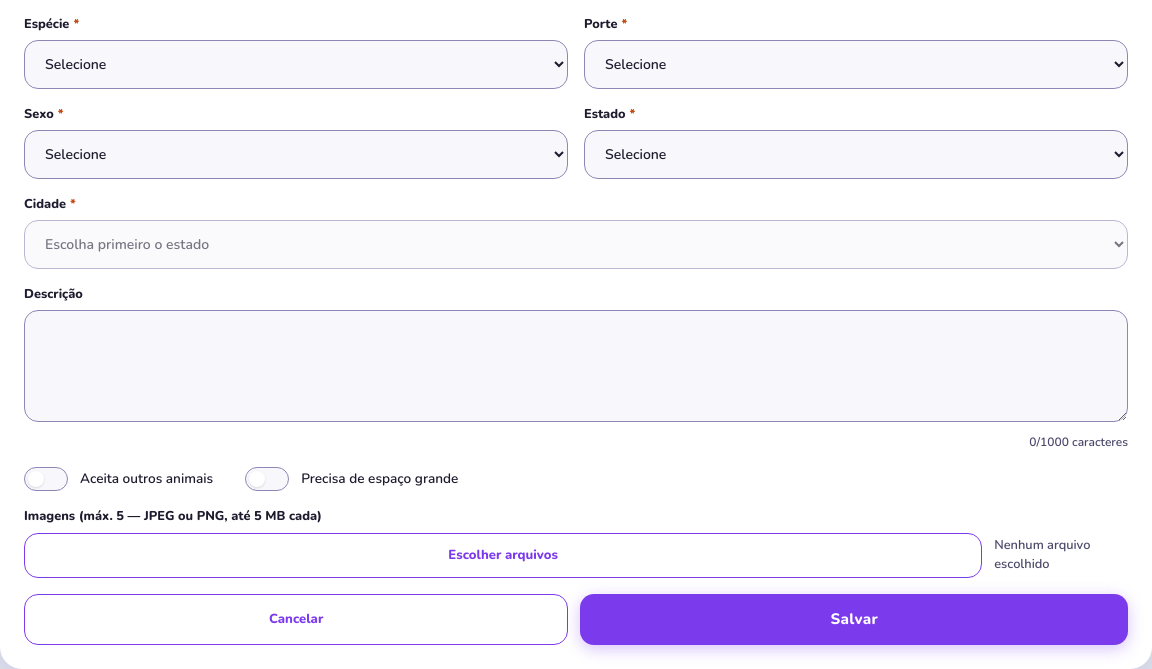
it: modo de cadastro › CT-09/CA-12: formulário vazio sinaliza TODOS os obrigatórios de uma vez, foca o primeiro e NÃO envia
This screenshot has width=1152, height=669.
(page scrolled)
Click the button "Salvar" at coordinates (854, 620), box [580,594,1128,645]
(page scrolled)
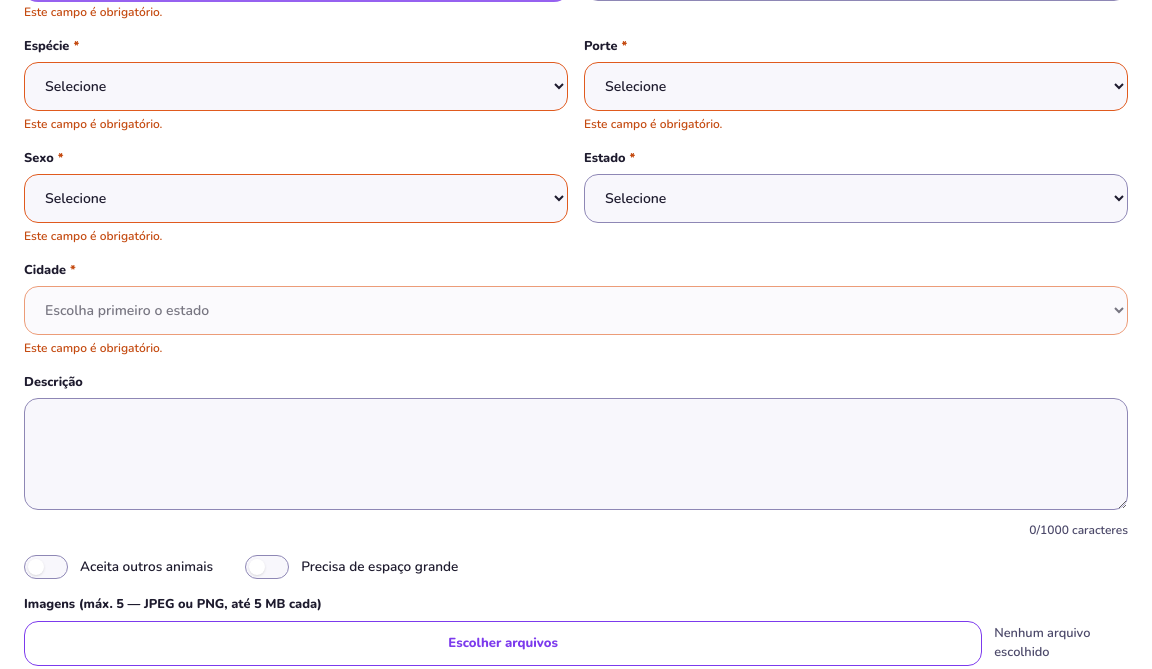
Expected: the text "Este campo é obrigatório." is shown 5 times, [24,4,162,20]; [24,116,162,132]; [584,116,722,132]; [24,228,162,244]; [24,340,162,356]
